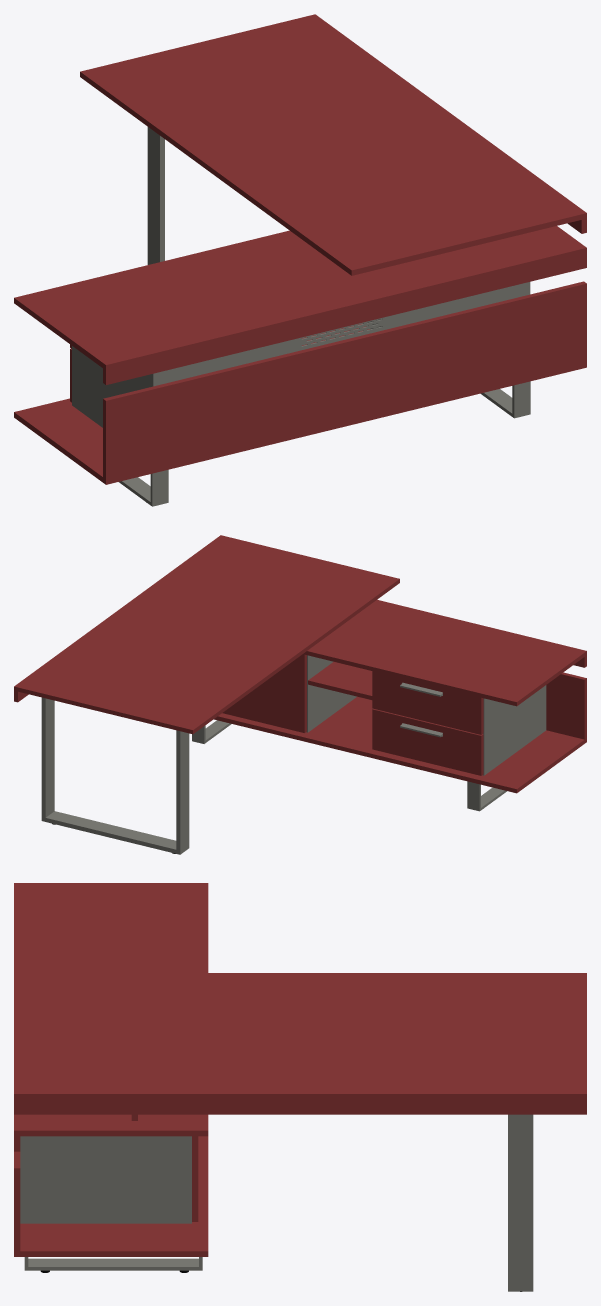
Rendered from Table_fbx.FBX.
3 renders of one model, top to bottom at view 1: azimuth 30°, elevation 25°; view 2: azimuth 150°, elevation 25°; view 3: azimuth 270°, elevation 25°, orthographic. The views are drawn at different scales.
Visible parts, largest first — view 1: Box025, Box030, Box028, Box027, Box032, Box029, Line002, Box031, Rectangle029, Box036, Box035; view 2: Box025, Box028, Box029, Line002, Box040, Box039, Box038, Box032, Box030, Box031, Box033, Box035 (+1 smaller); view 3: Box025, Box028, Box031, Box026, Box029, Line002, Box036, Box030, Box038.
Boxes of the visible parts, x1,y1,x2,y2 form: Box025: [80, 14, 586, 275]; Box030: [103, 281, 586, 484]; Box028: [14, 226, 586, 367]; Box027: [103, 248, 586, 384]; Box032: [72, 338, 298, 427]; Box029: [14, 398, 102, 482]; Line002: [147, 127, 164, 264]; Box031: [366, 282, 530, 329]; Rectangle029: [299, 317, 384, 350]; Box036: [481, 381, 530, 418]; Box035: [119, 469, 168, 506]; Box025: [14, 535, 399, 734]; Box028: [303, 599, 586, 706]; Box029: [214, 696, 584, 793]; Line002: [41, 697, 189, 854]; Box040: [372, 708, 483, 775]; Box039: [372, 671, 483, 734]; Box038: [222, 654, 306, 732]; Box032: [482, 685, 546, 775]; Box030: [546, 672, 586, 743]; Box031: [306, 655, 356, 732]; Box033: [308, 662, 372, 699]; Box035: [467, 781, 506, 811]; Box025: [14, 973, 586, 1093]; Box028: [14, 883, 208, 1136]; Box031: [20, 1136, 191, 1223]; Box026: [14, 1094, 586, 1114]; Box029: [20, 1136, 208, 1256]; Line002: [508, 1114, 533, 1291]; Box036: [24, 1257, 202, 1270]; Box030: [14, 1151, 20, 1256]; Box038: [192, 1136, 198, 1221].
Bounding box in the file's own units: 1840 × 1800 × 720.
